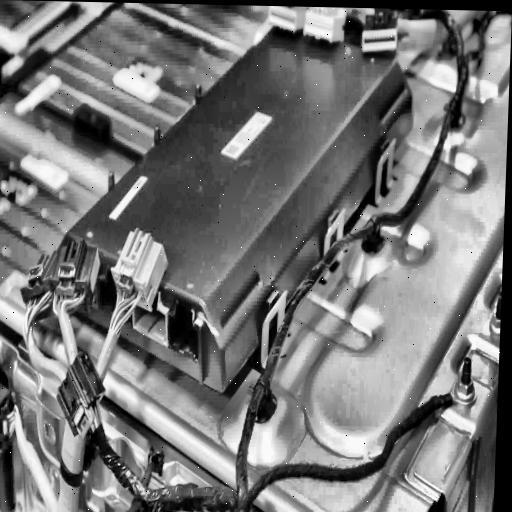bms_unit: (46, 10, 417, 398)
high_volt_cable: (0, 227, 170, 512)
low_volt_cable: (49, 9, 479, 512)
